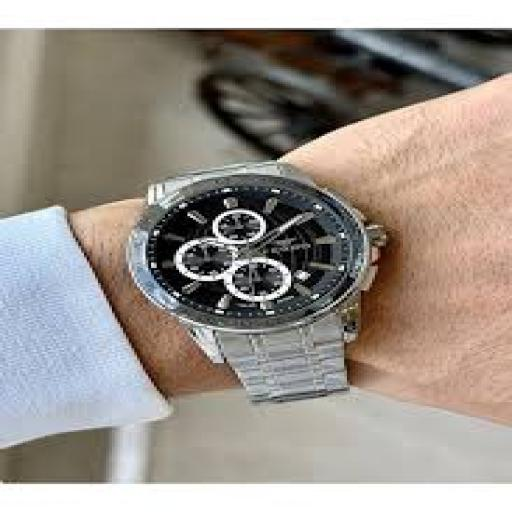KolSaati: (85, 121, 444, 430)
